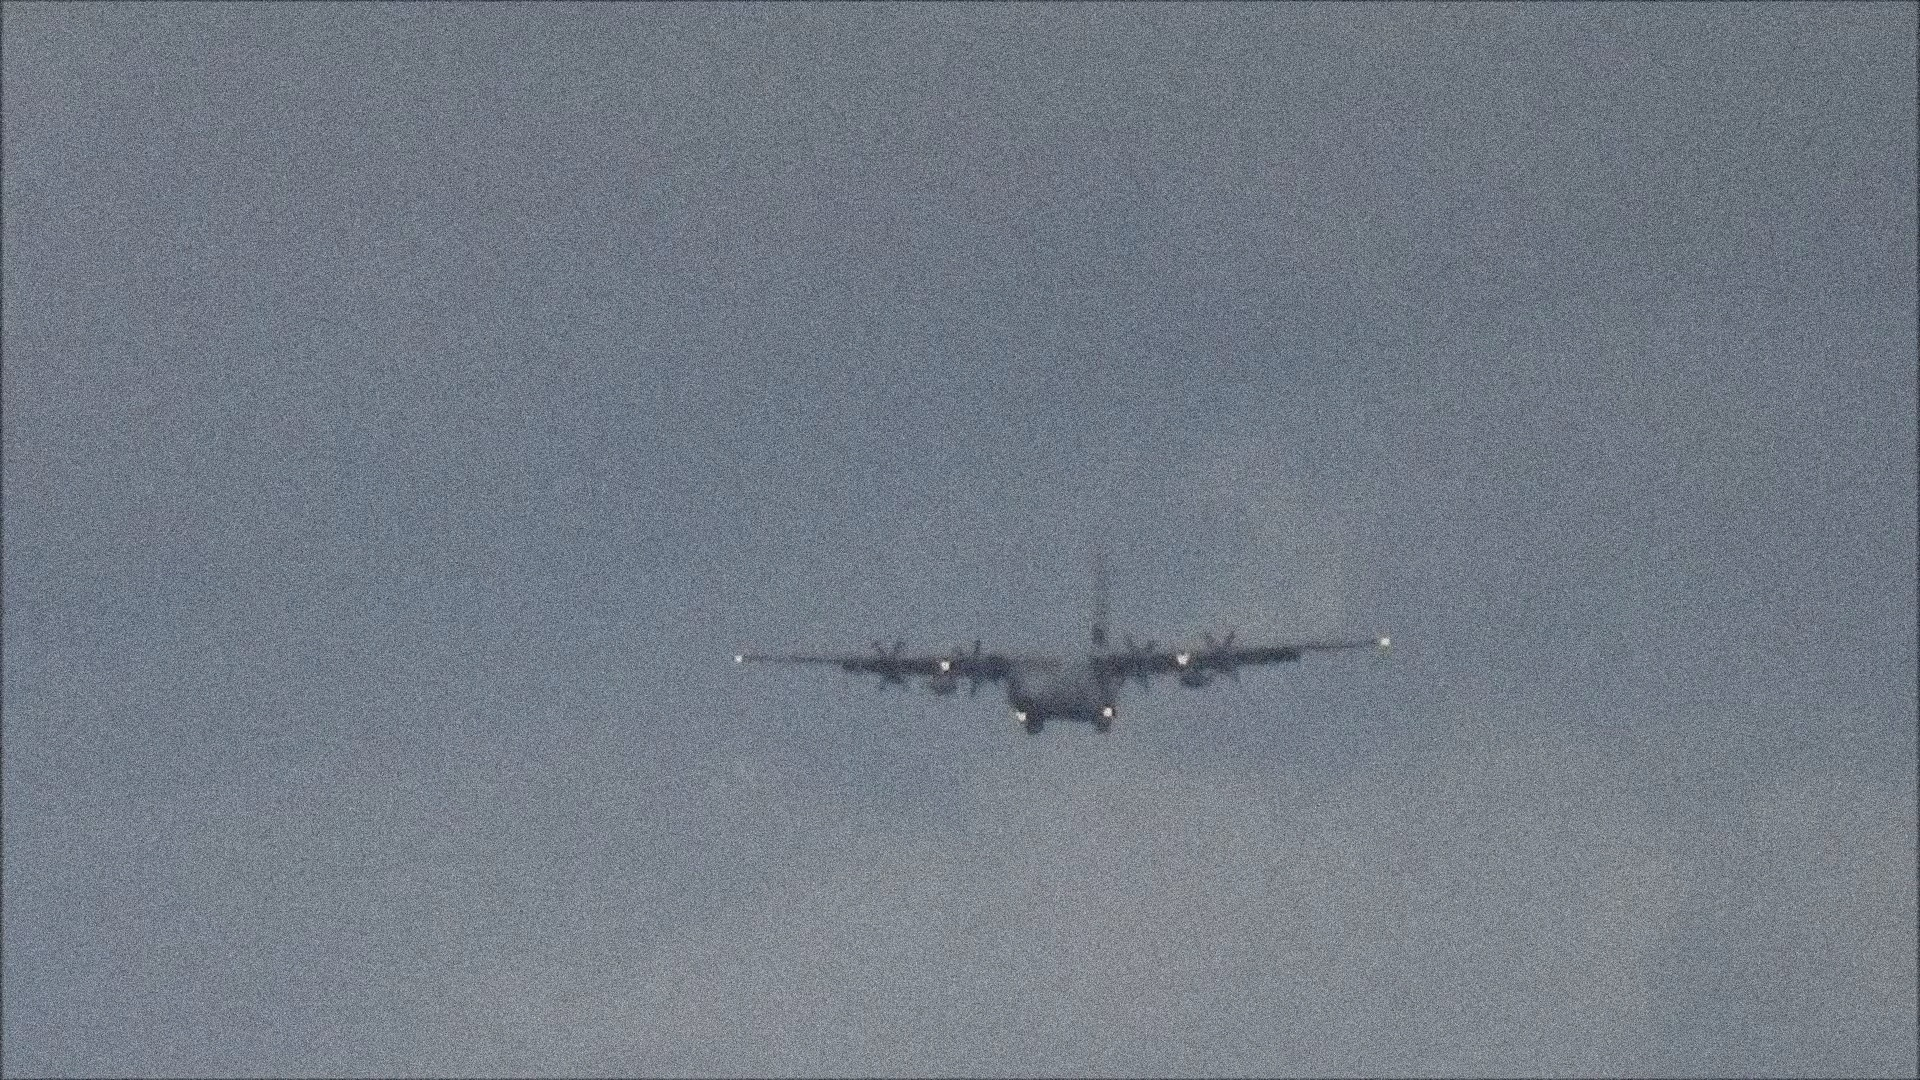Airplane: (744, 570, 1386, 731)
